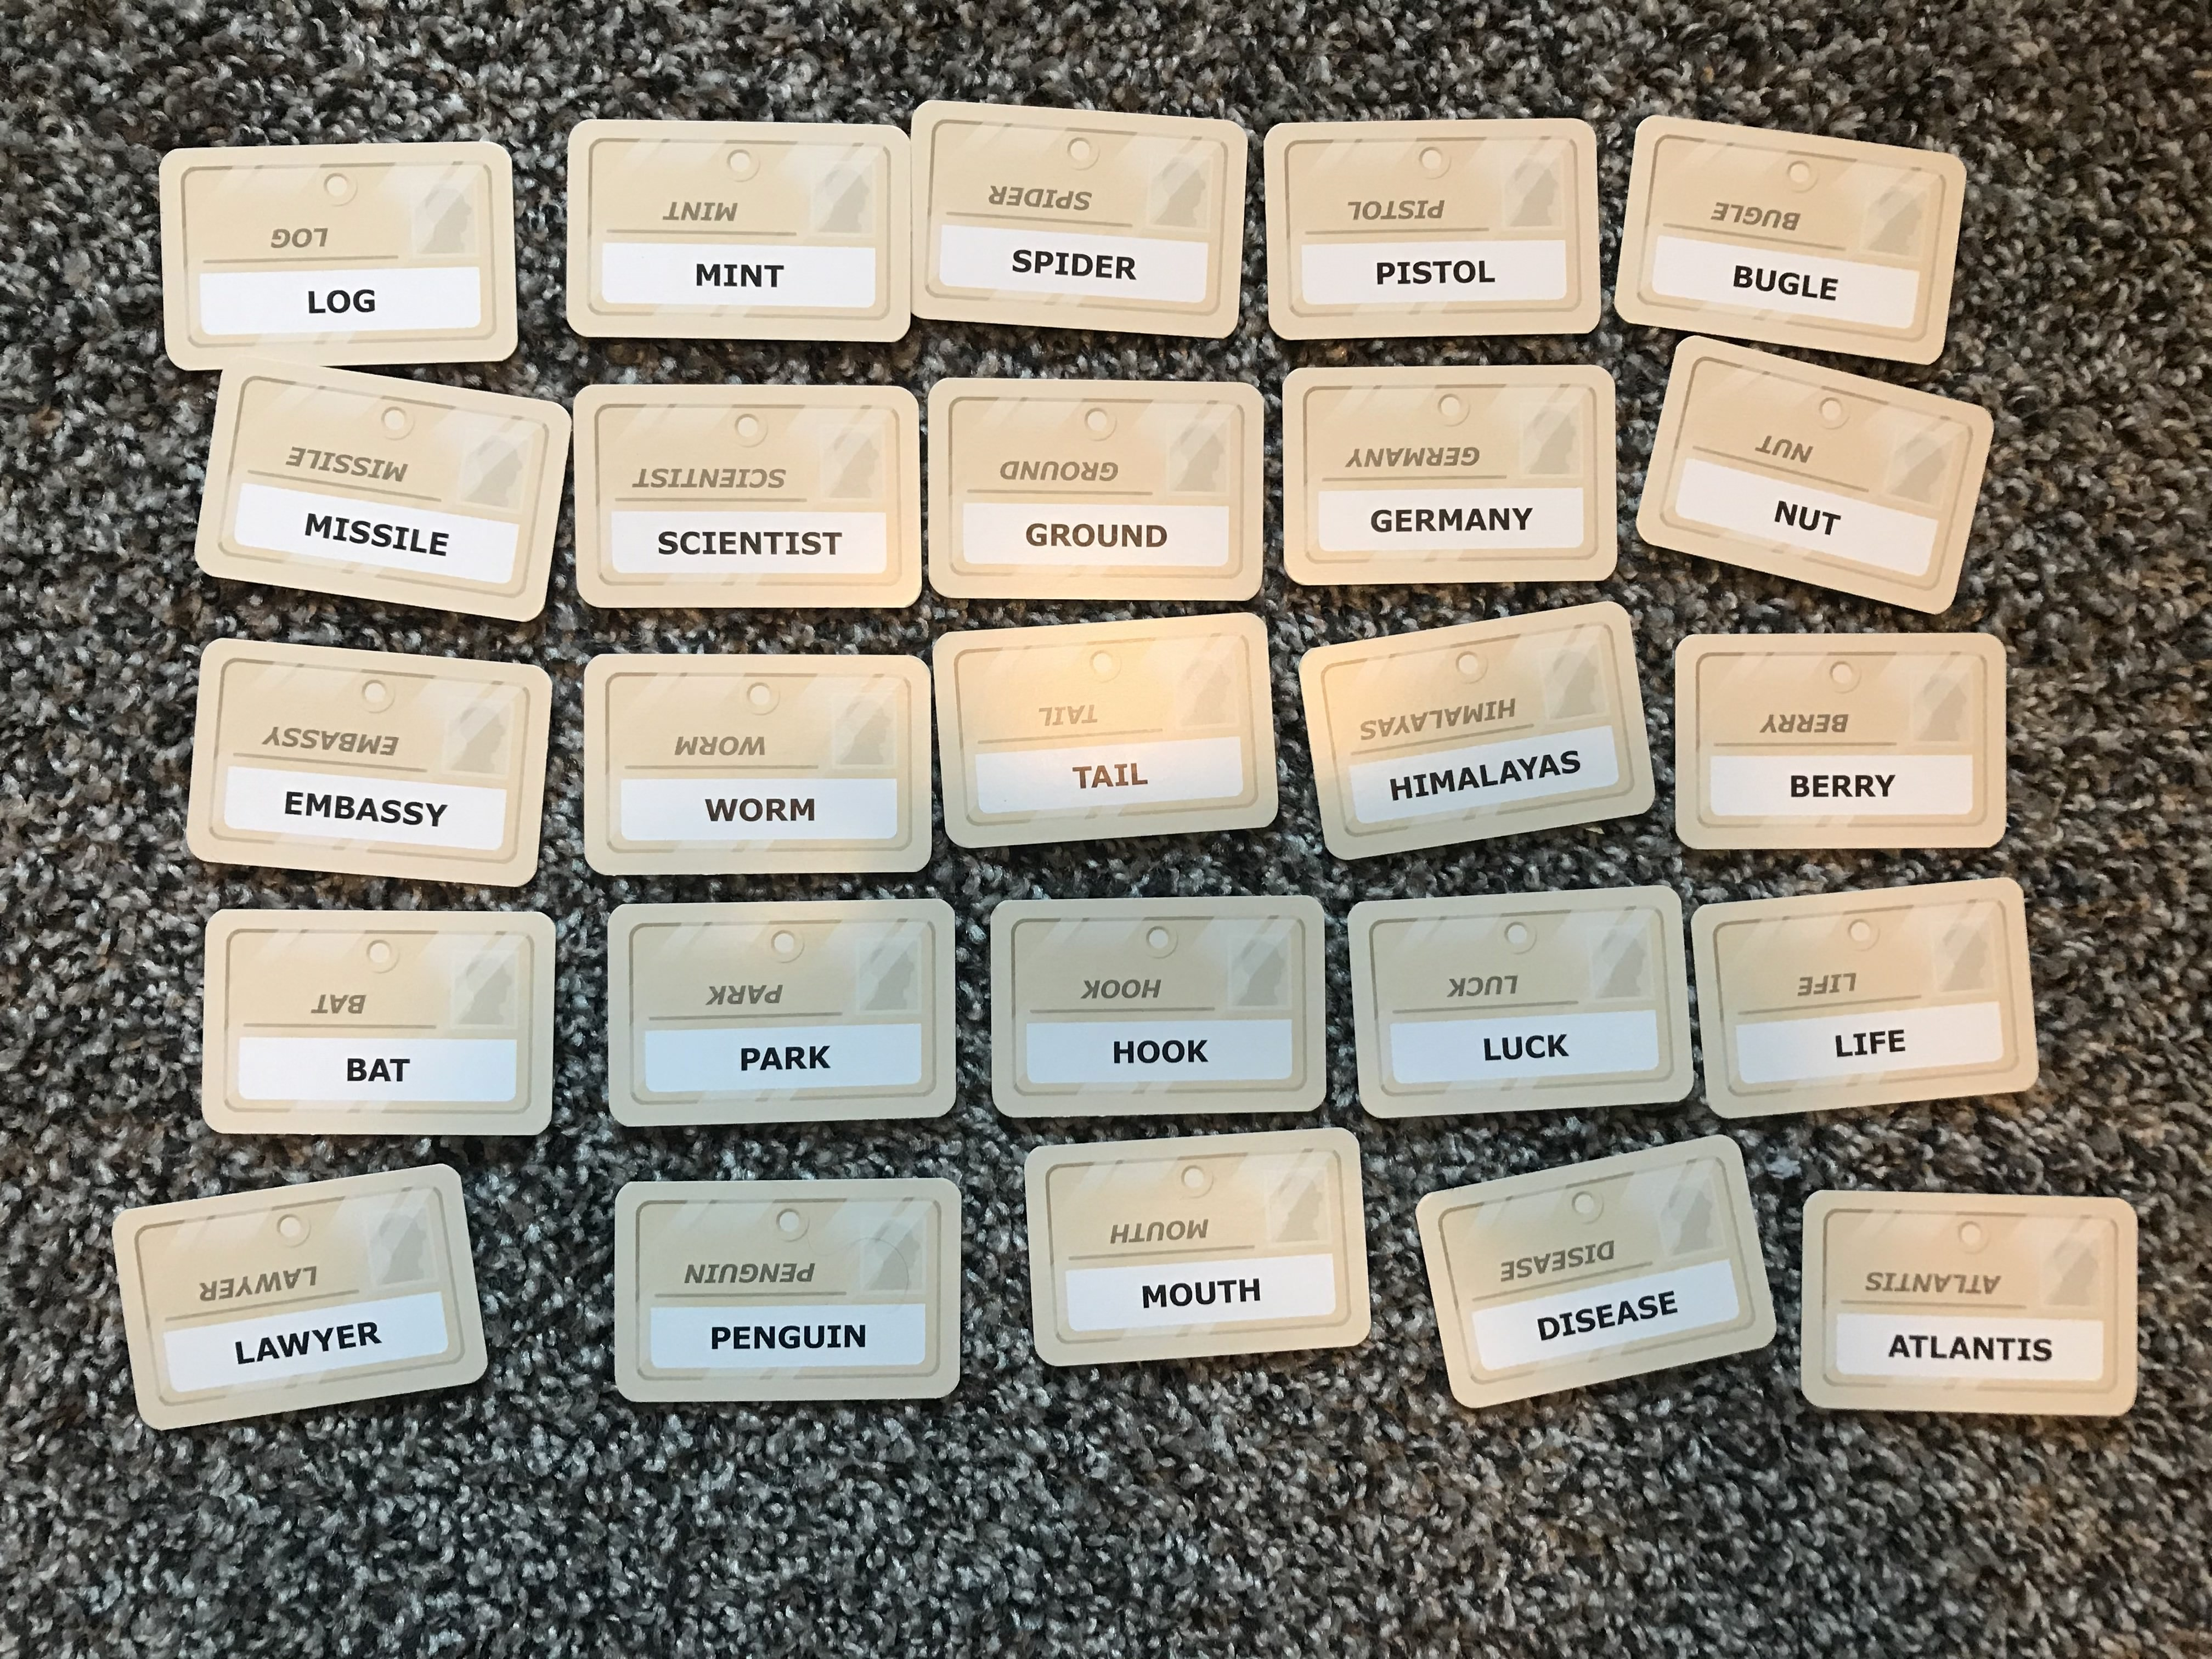A: (256, 1328, 282, 1380), (756, 1039, 784, 1084), (1885, 1326, 1911, 1373), (352, 788, 376, 835), (1946, 1328, 1972, 1371), (1085, 756, 1111, 798), (1493, 755, 1519, 796), (1615, 1295, 1641, 1337), (368, 1051, 390, 1098), (1463, 500, 1487, 544), (1454, 760, 1479, 802), (1538, 744, 1561, 786)
